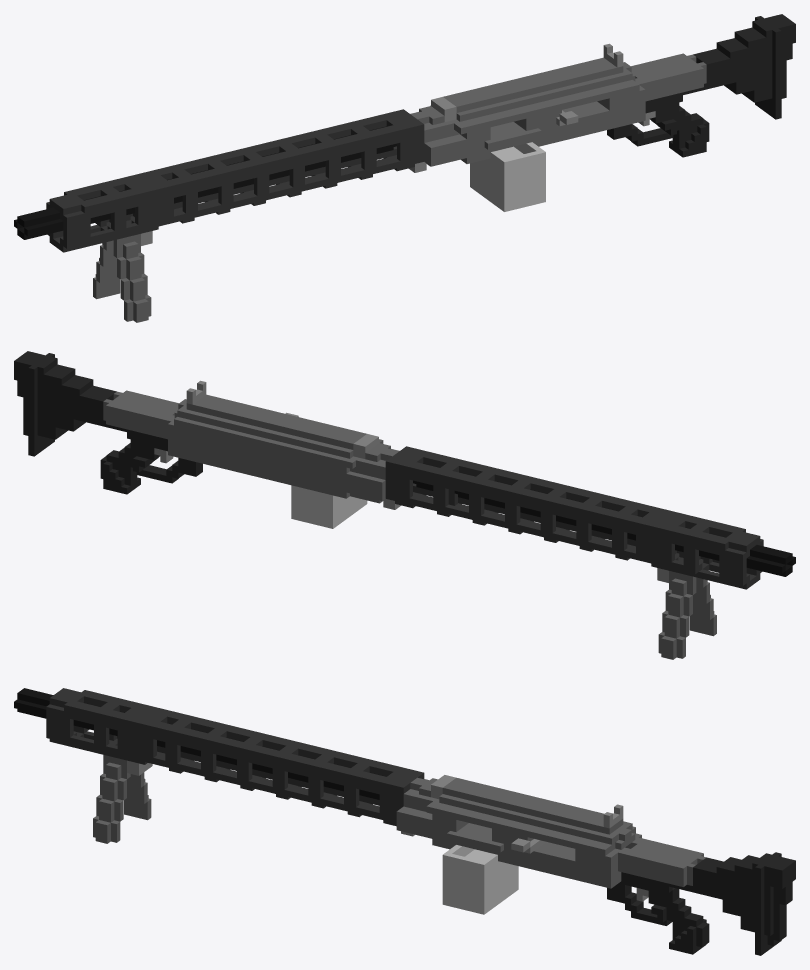
The model's file is K440-Machine Gun.fbx.
3 views of the same model, one above another, from view 1: azimuth 30°, elevation 25°; view 2: azimuth 150°, elevation 25°; view 3: azimuth 330°, elevation 25° (orthographic).
Parts seen in each view (by area): view 1: Rail_Guard, Receiver_Bottom, Receiver_Top, Stock, Mag, Bipod, Handle, Barrel; view 2: Rail_Guard, Receiver_Bottom, Receiver_Top, Stock, Bipod, Handle, Barrel, Mag; view 3: Rail_Guard, Receiver_Bottom, Receiver_Top, Stock, Mag, Handle, Bipod, Barrel.
Part boxes in pixels (x1=…): Rail_Guard: x1=46, y1=109, x2=424, y2=252; Receiver_Bottom: x1=410, y1=53, x2=706, y2=166; Receiver_Top: x1=430, y1=57, x2=639, y2=134; Stock: x1=693, y1=14, x2=795, y2=119; Mag: x1=470, y1=142, x2=545, y2=211; Bipod: x1=93, y1=234, x2=151, y2=322; Handle: x1=607, y1=83, x2=709, y2=157; Barrel: x1=14, y1=126, x2=396, y2=239; Rail_Guard: x1=385, y1=446, x2=763, y2=589; Receiver_Bottom: x1=103, y1=390, x2=399, y2=503; Receiver_Top: x1=174, y1=394, x2=383, y2=468; Stock: x1=14, y1=351, x2=116, y2=456; Bipod: x1=658, y1=571, x2=716, y2=659; Handle: x1=100, y1=420, x2=202, y2=494; Barrel: x1=413, y1=463, x2=795, y2=576; Mag: x1=291, y1=485, x2=367, y2=528; Rail_Guard: x1=46, y1=688, x2=424, y2=826; Receiver_Bottom: x1=396, y1=777, x2=706, y2=888; Receiver_Top: x1=426, y1=777, x2=635, y2=855; Stock: x1=693, y1=852, x2=795, y2=955; Mag: x1=442, y1=845, x2=518, y2=914; Handle: x1=607, y1=872, x2=709, y2=954; Bipod: x1=93, y1=755, x2=151, y2=843; Barrel: x1=14, y1=688, x2=386, y2=799.
Bounding box in the file's own units: 129 × 22 × 15.
